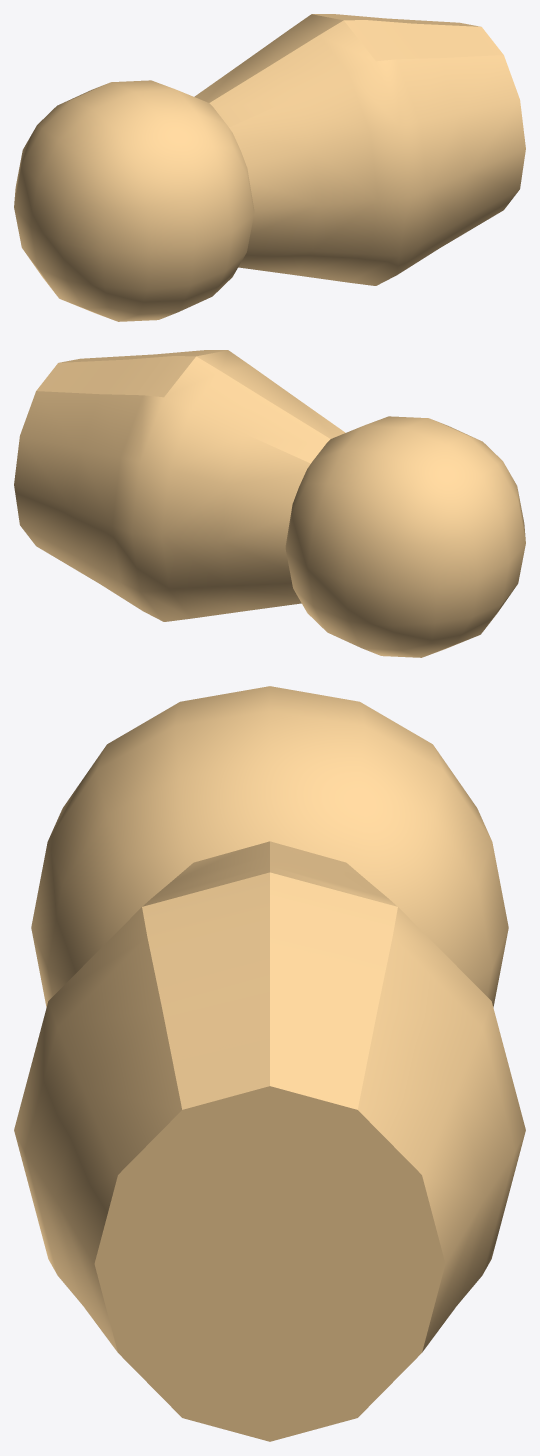
The model's file is ArmR_02.obj.
The picture shows the model from 3 angles, top to bottom: view 1: azimuth 30°, elevation 25°; view 2: azimuth 150°, elevation 25°; view 3: azimuth 270°, elevation 25°; orthographic projection. The views are drawn at different scales.
Visible parts, largest first — view 1: ArmR02; view 2: ArmR02; view 3: ArmR02.
Part boxes in pixels (x1,y1,x2,y2): ArmR02: [14, 14, 525, 321]; ArmR02: [14, 350, 525, 657]; ArmR02: [14, 686, 525, 1441].
Size of the model in its own units: 0.5455 by 0.3 by 0.27.
1 material, 1 textured.
